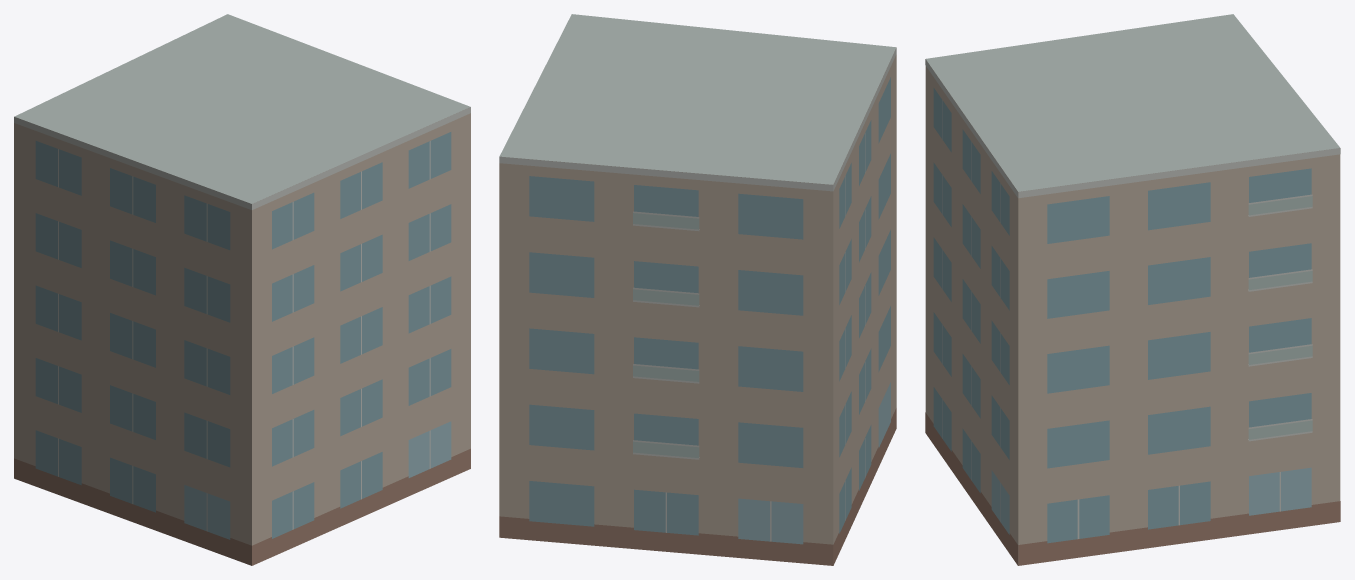
Rendered from survey-upis-32524691.glb.
3 views of the same model, side by side, from view 1: azimuth 30°, elevation 25°; view 2: azimuth 150°, elevation 25°; view 3: azimuth 270°, elevation 25° (orthographic). The views are drawn at different scales.
Parts seen in each view (by area): view 1: survey-upis-32524691.tmp; view 2: survey-upis-32524691.tmp; view 3: survey-upis-32524691.tmp.
Part boxes in pixels (x1=…): survey-upis-32524691.tmp: x1=14, y1=14, x2=470, y2=565; survey-upis-32524691.tmp: x1=499, y1=14, x2=896, y2=565; survey-upis-32524691.tmp: x1=925, y1=14, x2=1340, y2=565.
Bounding box in the file's own units: 14.44 × 14.15 × 14.24.
